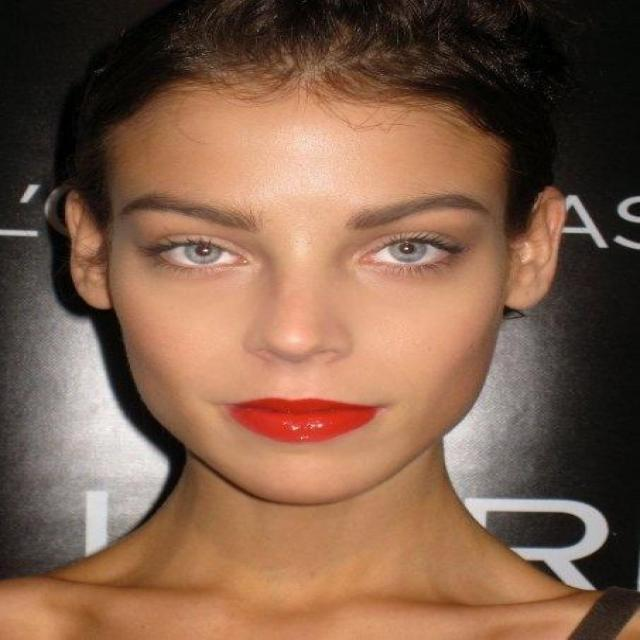live: (36, 75, 580, 515)
